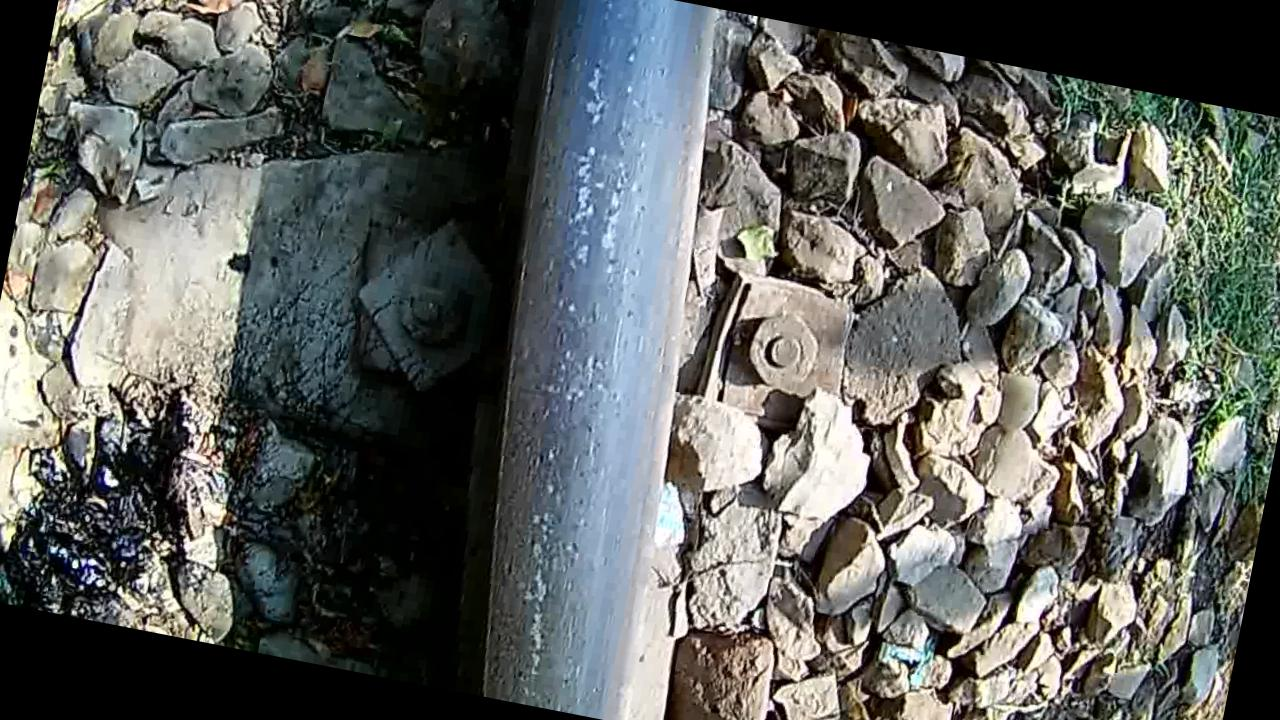clip_missing: (412, 0, 745, 720)
